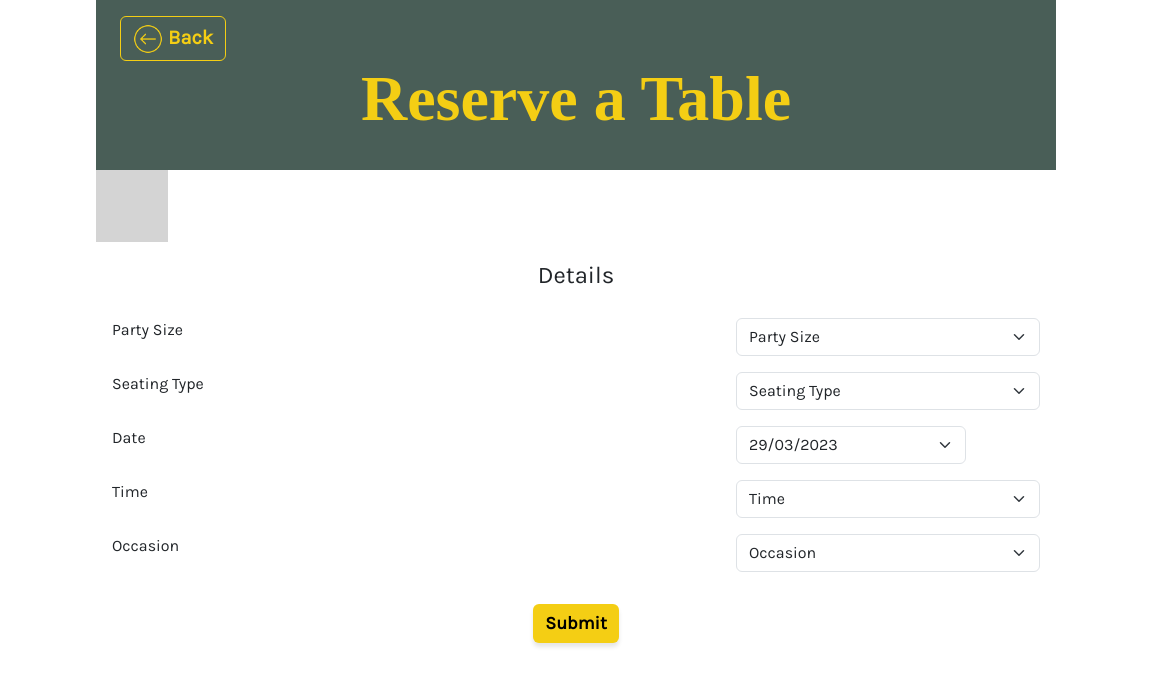
test if validation works as expected in DetailsForm component › validateForm detects invalid seatingType
The width and height of the screenshot is (1152, 700).
Simulate an invalid input for the seatingType field
Step 1. Select "" in the dropdown labelled "Seating Type" → (888, 391), box top-left (736, 372), bottom-right (1040, 410)
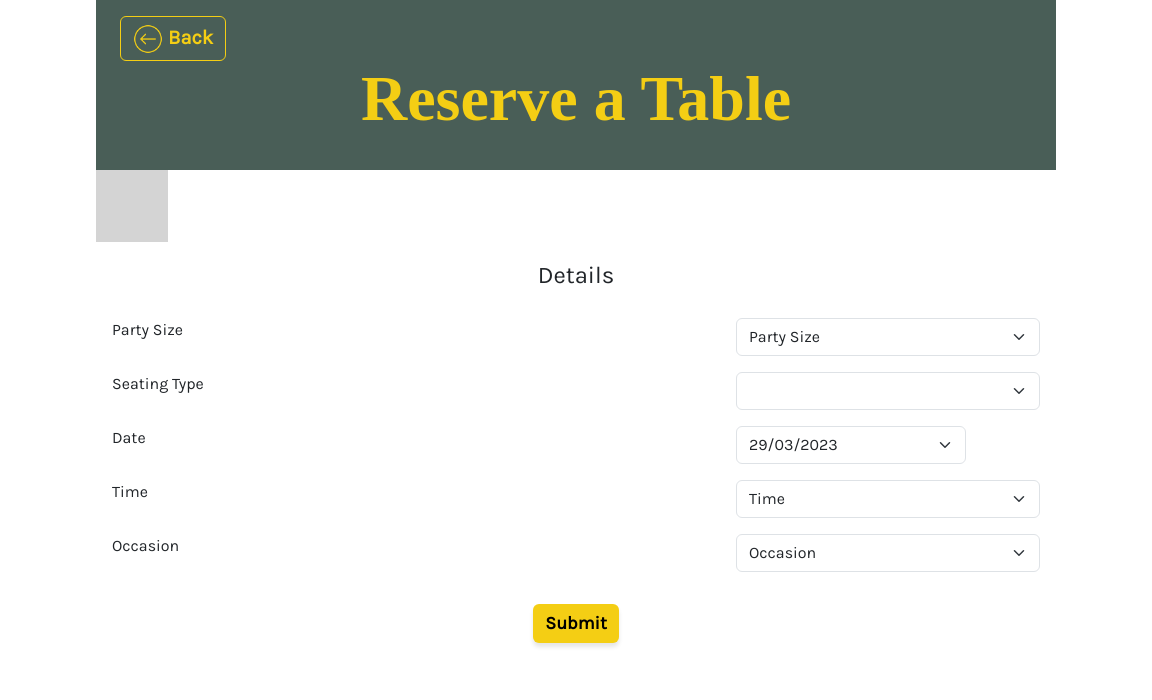
Submit the form and verify that an error message is displayed
Step 2. Submit the form from the button "Submit", box top-left (533, 604), bottom-right (619, 643)
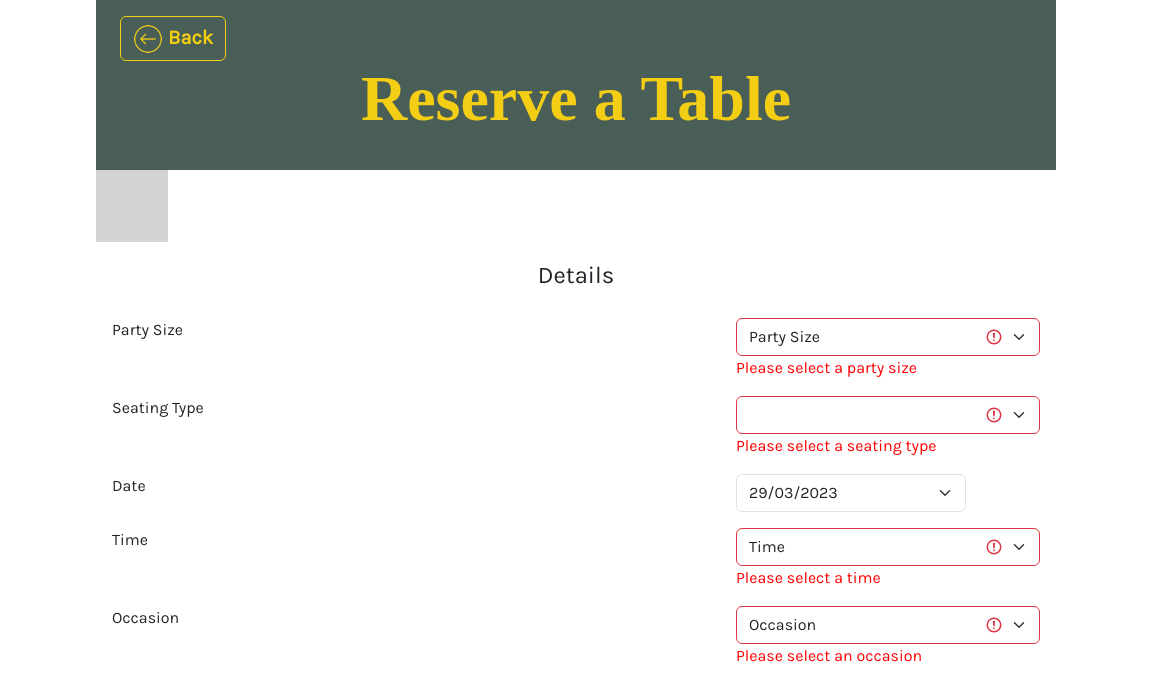
Result: the text "Please select a seating type" is shown at top-left (736, 436), bottom-right (936, 455)
